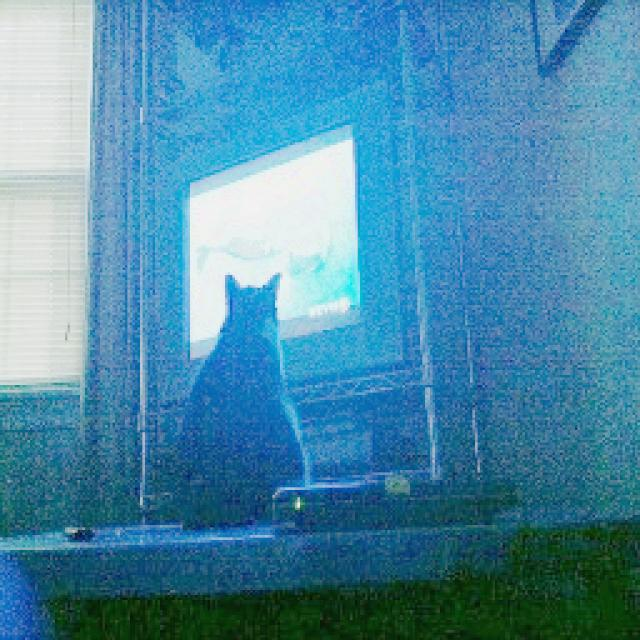cat: (144, 256, 332, 544)
